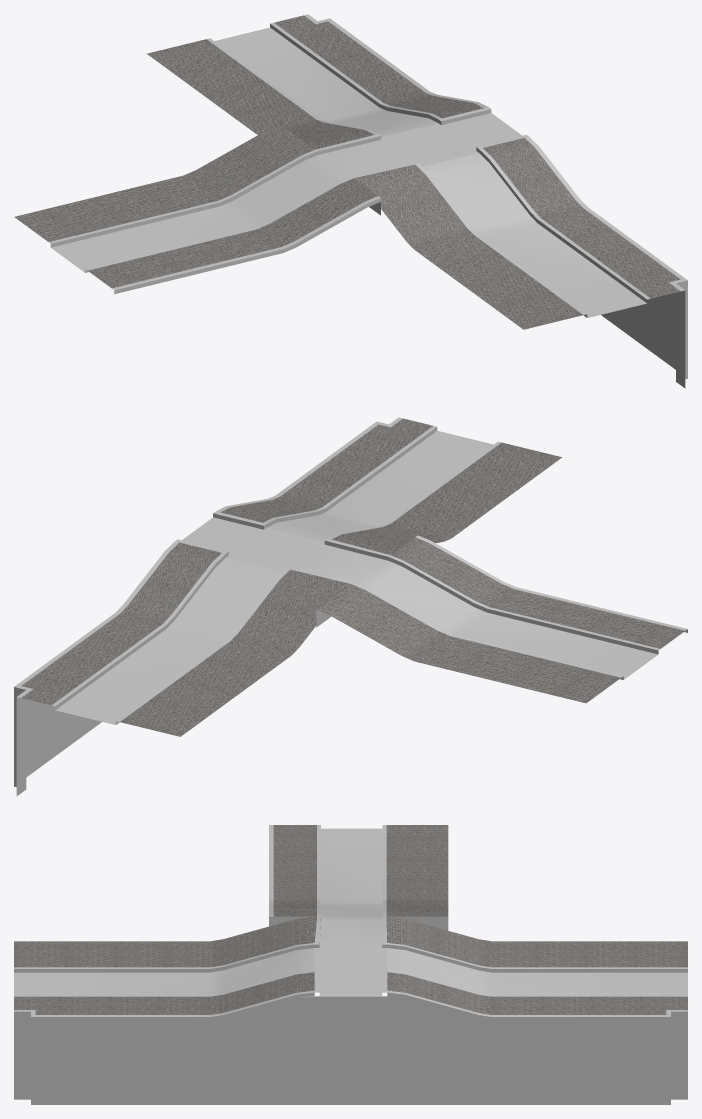
The model's file is canale1.fbx.
3 renders of one model, top to bottom at view 1: azimuth 30°, elevation 25°; view 2: azimuth 150°, elevation 25°; view 3: azimuth 270°, elevation 25°, orthographic. The views are drawn at different scales.
Visible parts, largest first — view 1: Mesh; view 2: Mesh; view 3: Mesh.
Boxes of the visible parts, box(x1,y1,x2,y2) form: Mesh: box(14, 14, 687, 388); Mesh: box(14, 417, 687, 796); Mesh: box(14, 825, 687, 1104).
Size of the model in its own units: 2940 by 802 by 4360.
